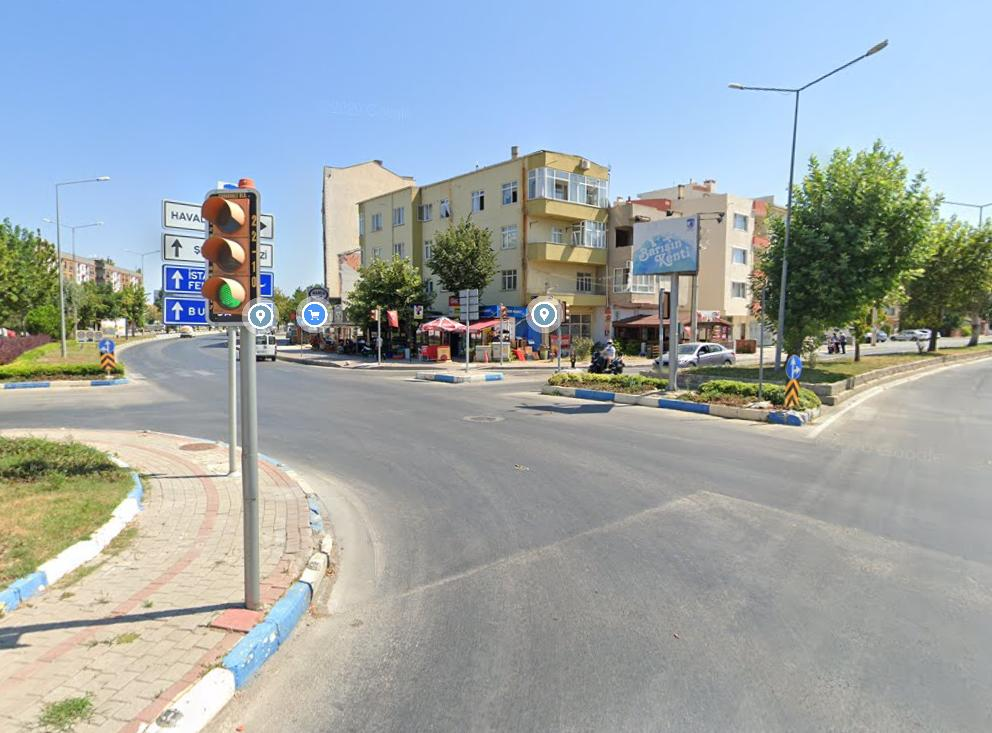greenlight: (203, 191, 258, 326)
